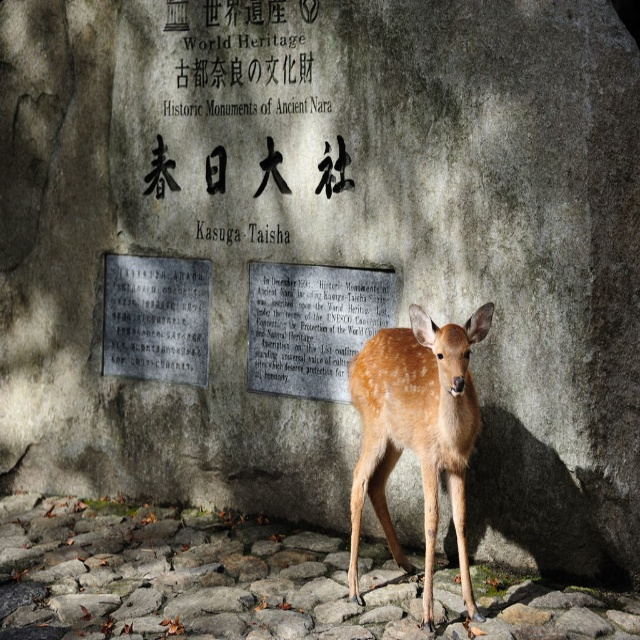Deer: (346, 305, 494, 639)
